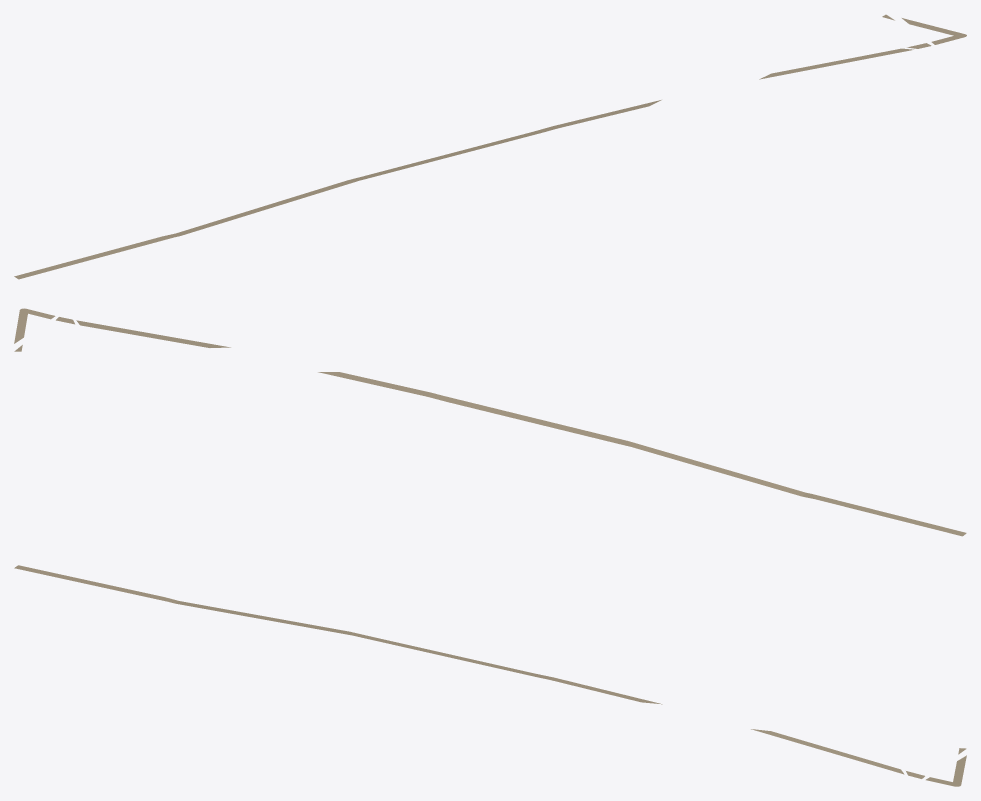
Rendered from farm_17_9_track.glb.
3 views of the same model, one above another, from view 1: azimuth 30°, elevation 25°; view 2: azimuth 150°, elevation 25°; view 3: azimuth 330°, elevation 25° (orthographic). The views are drawn at different scales.
Parts seen in each view (by area): view 1: geometry_0; view 2: geometry_0; view 3: geometry_0.
Part boxes in pixels (<box>): geometry_0: <box>14,14,966,279</box>; geometry_0: <box>14,308,966,536</box>; geometry_0: <box>14,565,966,786</box>.
Size of the model in its own units: 403 by 6 by 39.54.
